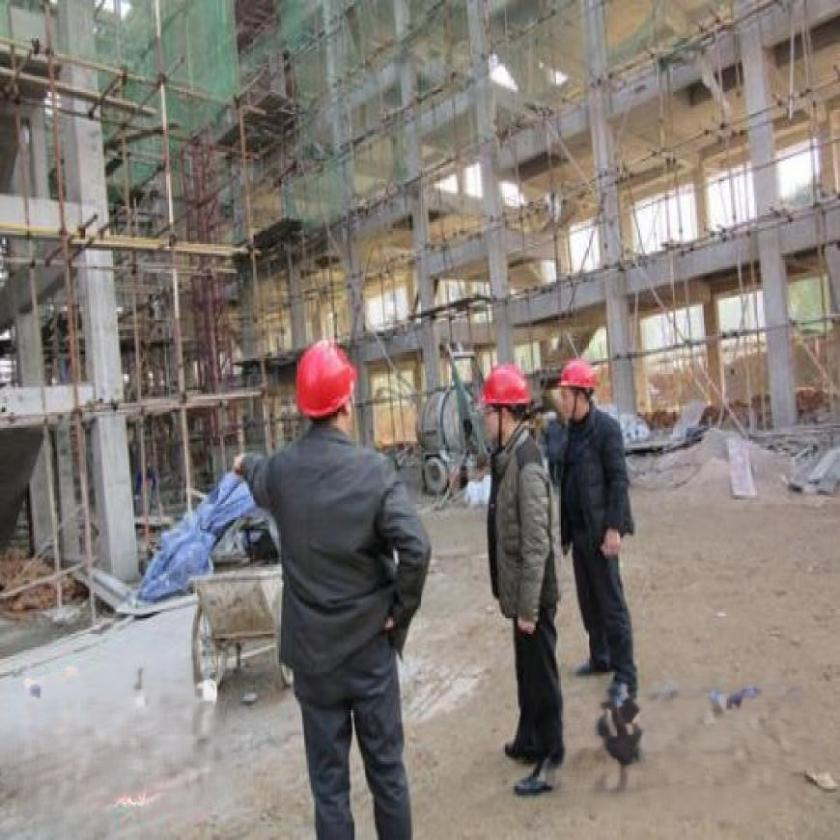Con_casco: (294, 330, 376, 431), (471, 335, 545, 446), (558, 354, 602, 433)
